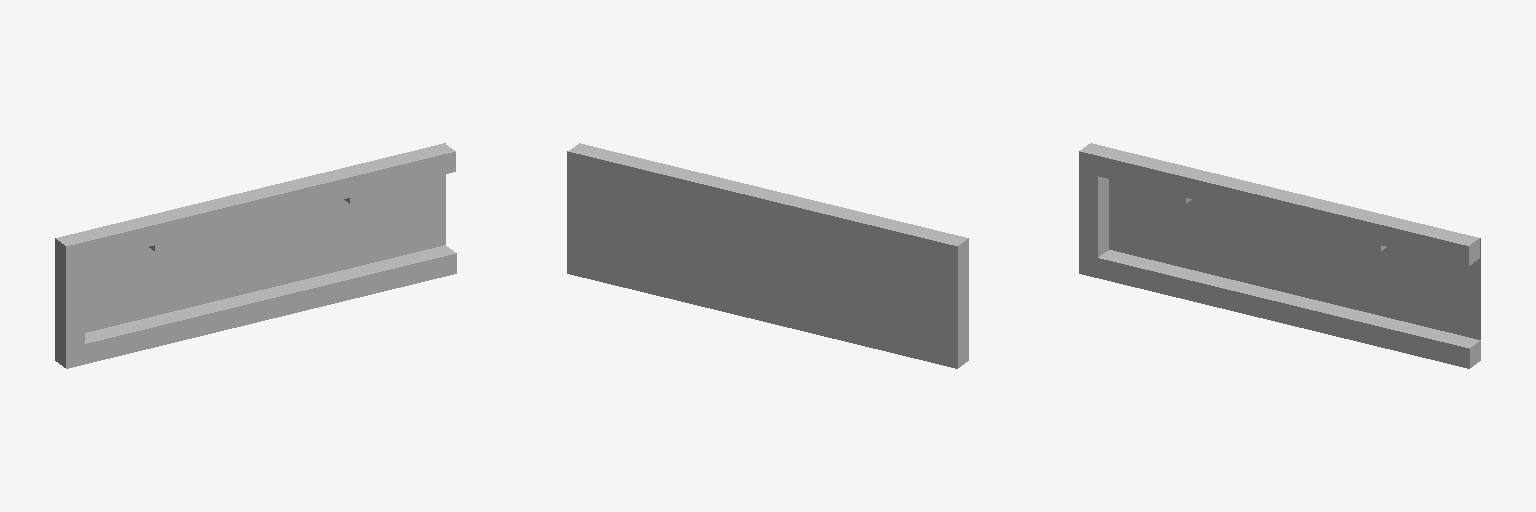
File: map2.obj
3 renders of one model, left to right at view 1: azimuth 30°, elevation 25°; view 2: azimuth 150°, elevation 25°; view 3: azimuth 330°, elevation 25°, orthographic.
Parts seen in each view (by area): view 1: Cube_Cube.001, Plane_Plane.001; view 2: Plane_Plane.001, Cube_Cube.001; view 3: Cube_Cube.001, Plane_Plane.001.
Boxes of the visible parts, x1=… form: Cube_Cube.001: x1=55, y1=143, x2=456, y2=368; Plane_Plane.001: x1=85, y1=143, x2=445, y2=332; Plane_Plane.001: x1=567, y1=151, x2=957, y2=368; Cube_Cube.001: x1=567, y1=143, x2=968, y2=368; Cube_Cube.001: x1=1079, y1=143, x2=1480, y2=368; Plane_Plane.001: x1=1109, y1=179, x2=1480, y2=339.
Bounding box in the file's own units: 40 × 12 × 2.